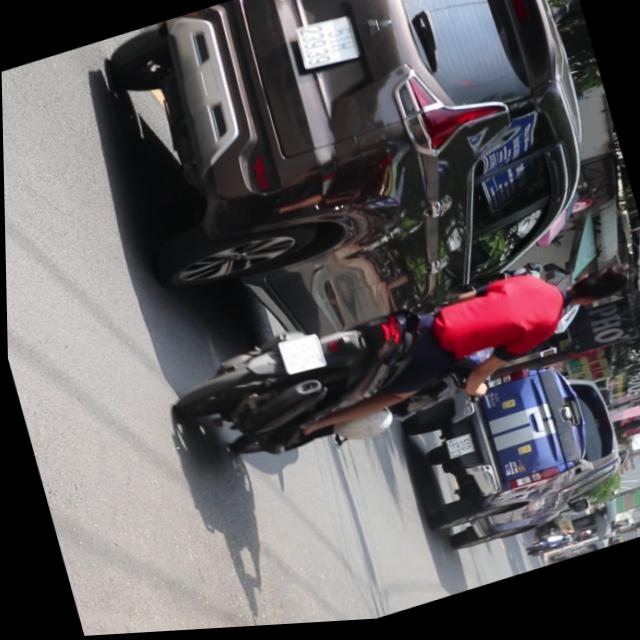licenseplate: (161, 232, 640, 497)
motorcyclist: (557, 265, 634, 317)
nohelmet: (277, 332, 325, 379)
